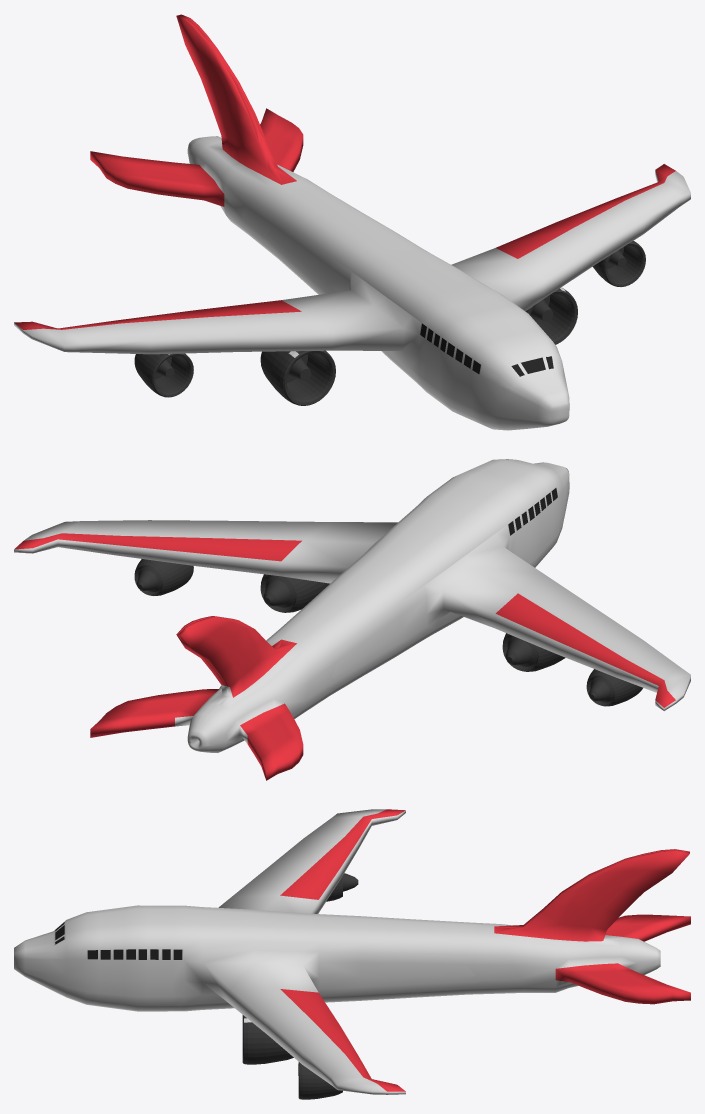
Rendered from aeroplane.gltf.
The picture shows the model from 3 angles, top to bottom: view 1: azimuth 30°, elevation 25°; view 2: azimuth 150°, elevation 25°; view 3: azimuth 270°, elevation 25°; orthographic projection. The views are drawn at different scales.
Visible parts, largest first — view 1: Cube.001; view 2: Cube.001; view 3: Cube.001.
Part boxes in pixels (x1,y1,x2,y2): Cube.001: (14,14,690,430); Cube.001: (14,459,690,780); Cube.001: (14,809,690,1099).
Bounding box in the file's own units: 14.35 × 3.77 × 14.54.
